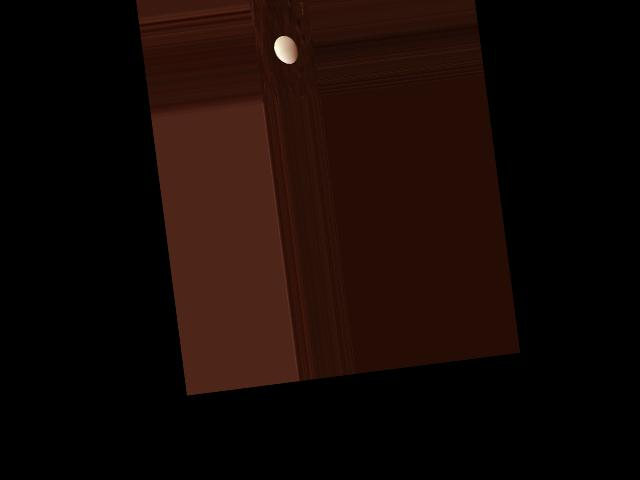egg: (273, 34, 299, 66)
